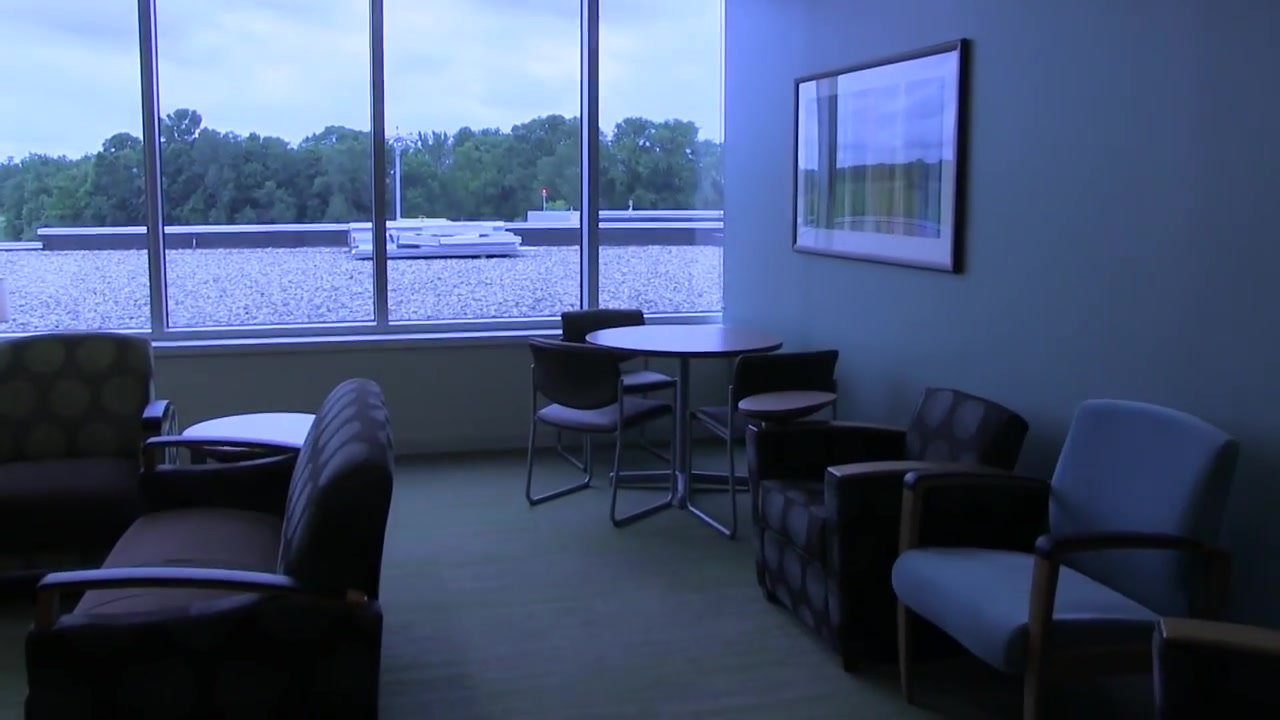chair: (686, 348, 857, 540), (525, 336, 675, 527), (558, 309, 678, 471)
sofa: (24, 376, 393, 720), (891, 398, 1237, 720), (746, 386, 1029, 666), (1, 330, 178, 573), (178, 411, 318, 477)
table: (585, 324, 784, 529)
